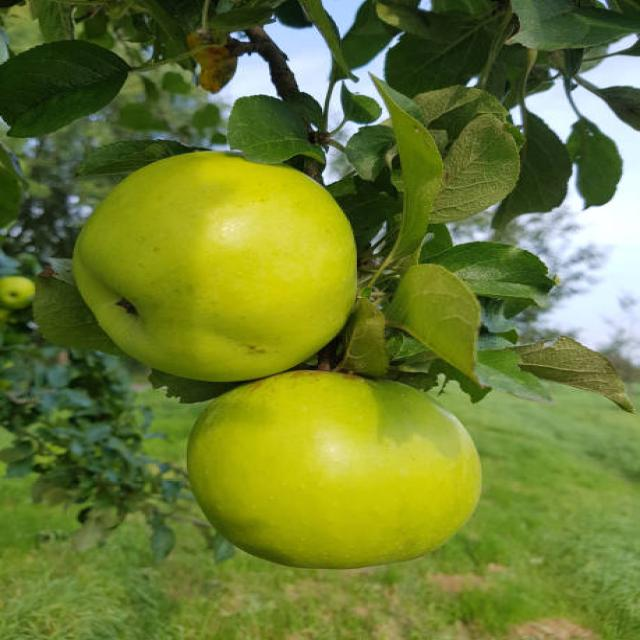Unripe: (68, 151, 358, 384), (185, 364, 482, 567)
